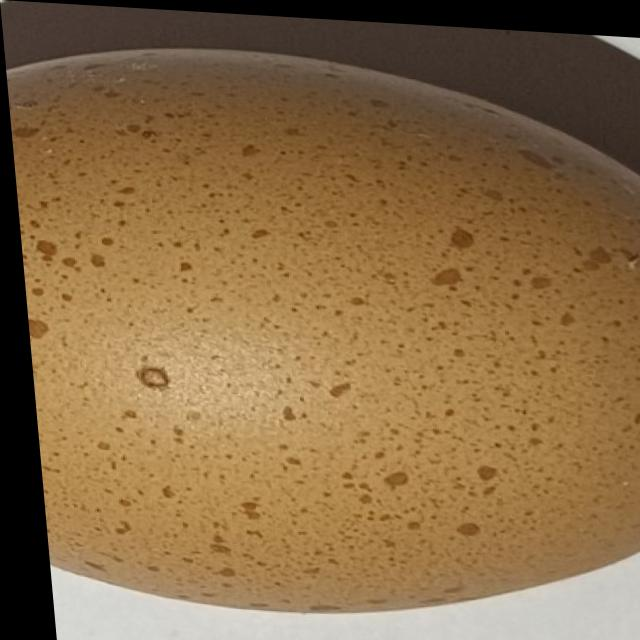unfresh: (2, 25, 640, 640)
